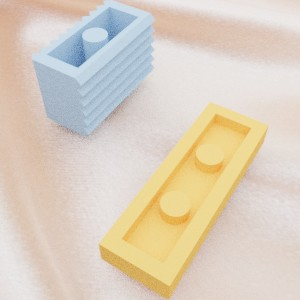lego: (98, 101, 269, 300), (31, 0, 155, 136)
